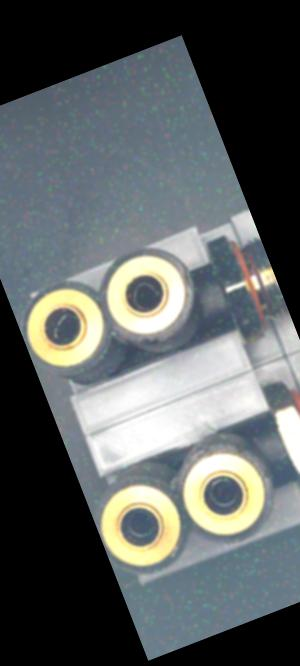bump: (137, 330, 164, 349), (253, 462, 271, 484), (230, 441, 245, 457)
off-centered: (122, 271, 169, 320), (44, 302, 91, 348)
white mark: (210, 283, 222, 296), (277, 449, 289, 461)
